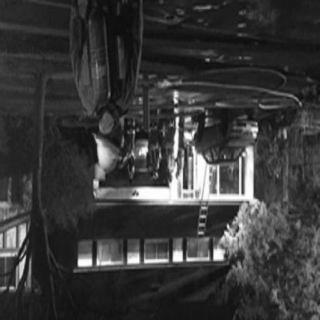other: (93, 133, 117, 173)
